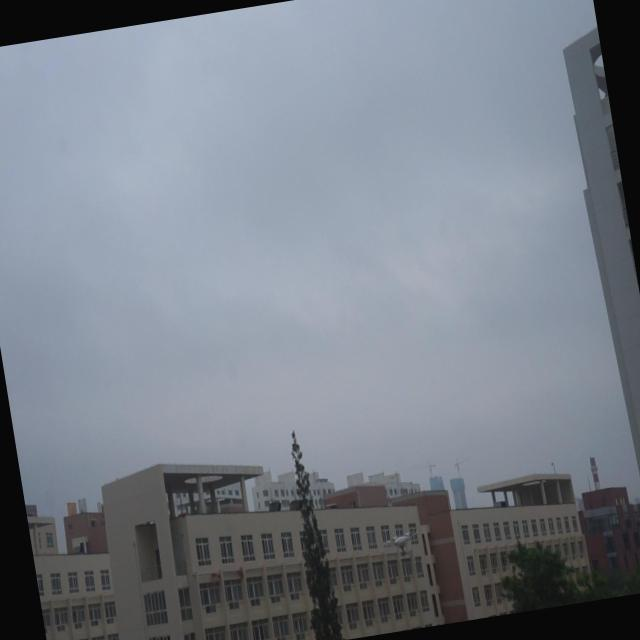drone: (385, 523, 420, 560)
